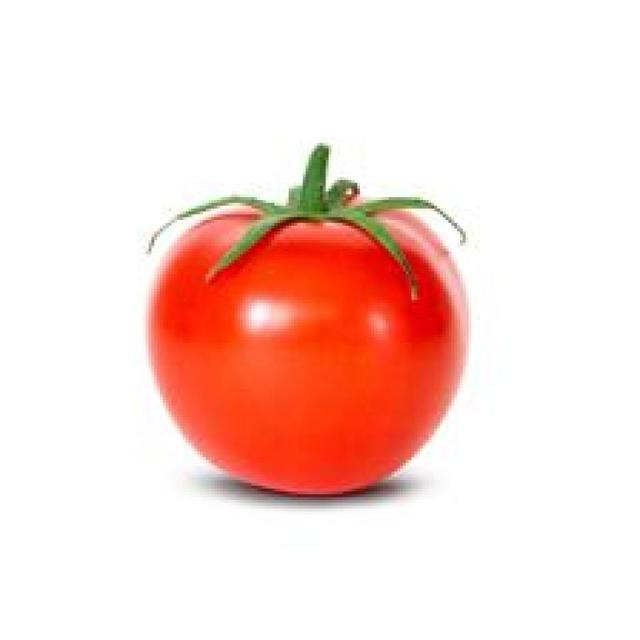Healthy Fruit: (86, 94, 324, 338)
